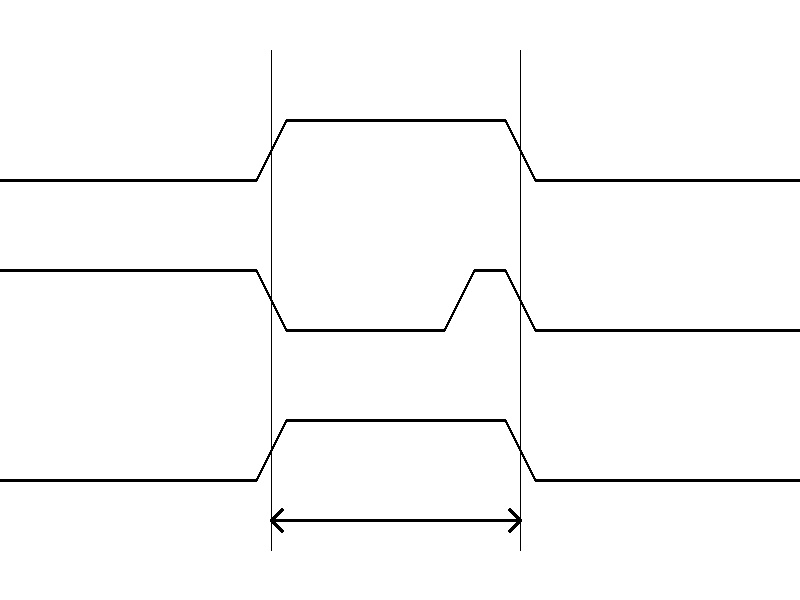double_arrow: (271, 505, 520, 535)
